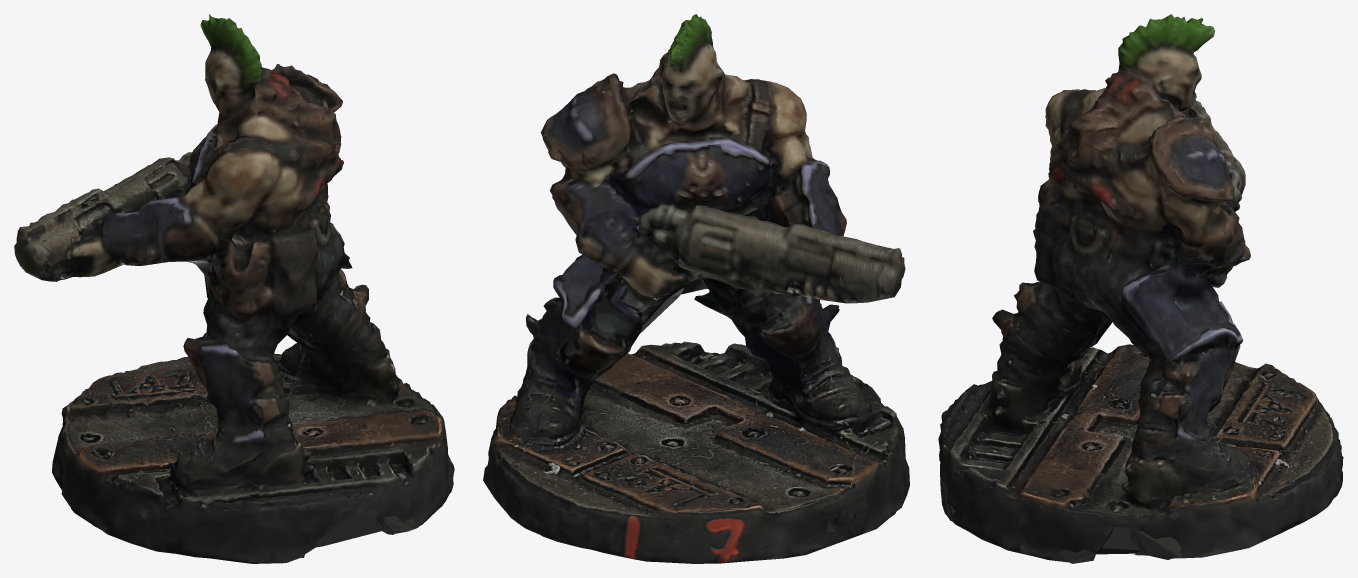
File: Goliaths_7_blender.obj
The picture shows the model from 3 angles, left to right: view 1: azimuth 30°, elevation 25°; view 2: azimuth 150°, elevation 25°; view 3: azimuth 270°, elevation 25°; orthographic projection. The views are drawn at different scales.
Visible parts, largest first — view 1: Goliaths_7_zephyr; view 2: Goliaths_7_zephyr; view 3: Goliaths_7_zephyr.
Boxes of the visible parts, x1=… form: Goliaths_7_zephyr: x1=14, y1=14, x2=454, y2=563; Goliaths_7_zephyr: x1=483, y1=14, x2=909, y2=563; Goliaths_7_zephyr: x1=938, y1=14, x2=1343, y2=563.
Size of the model in its own units: 1.34 by 1.52 by 1.2.
1 material, 1 textured.
